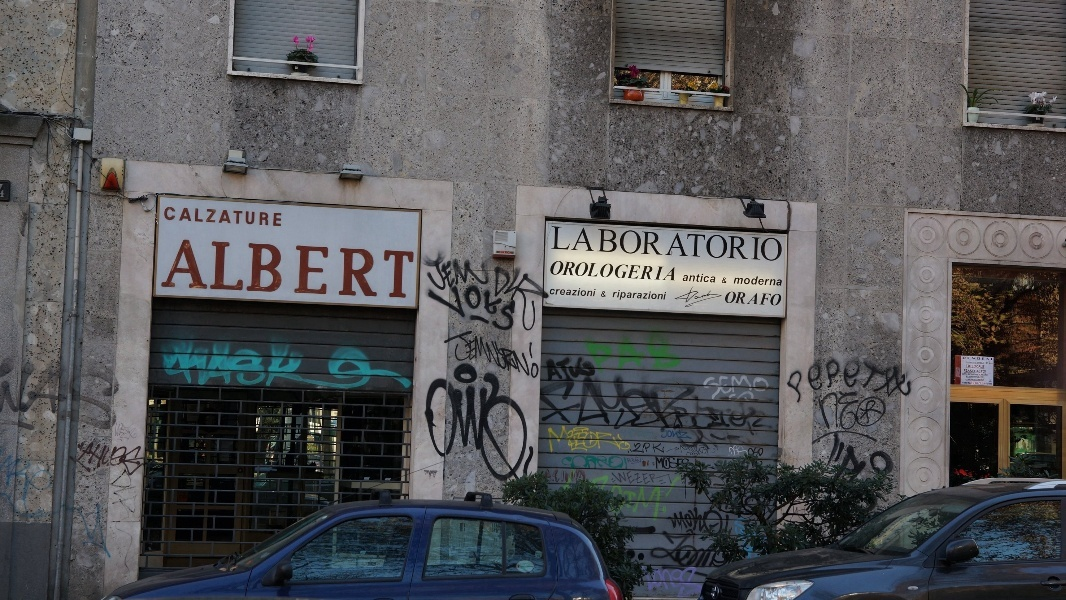text: (433, 340, 448, 488), (449, 340, 464, 488), (465, 340, 480, 488), (481, 340, 496, 488), (497, 340, 512, 488), (513, 340, 528, 488), (529, 340, 544, 488), (433, 251, 448, 332), (449, 251, 464, 332), (465, 251, 480, 332), (481, 251, 496, 332), (497, 251, 512, 332), (513, 251, 528, 332), (529, 251, 544, 332), (545, 251, 559, 332), (49, 360, 64, 433), (65, 360, 80, 433), (81, 360, 96, 433), (97, 360, 112, 433), (193, 239, 208, 299), (209, 239, 224, 299), (225, 239, 240, 299), (241, 239, 256, 299), (257, 239, 272, 299), (273, 239, 288, 299), (289, 239, 304, 299), (305, 239, 320, 299), (321, 239, 336, 299), (337, 239, 352, 299), (353, 239, 368, 299), (369, 239, 384, 299), (385, 239, 400, 299), (401, 239, 416, 299), (177, 333, 192, 390), (193, 333, 208, 390), (209, 333, 224, 390), (225, 333, 240, 390), (241, 333, 256, 390), (257, 333, 272, 390), (273, 333, 288, 390), (289, 333, 304, 390), (305, 333, 320, 390), (321, 333, 336, 390), (337, 333, 352, 390), (353, 333, 368, 390), (369, 333, 384, 390), (385, 333, 400, 390), (401, 333, 416, 390), (545, 376, 560, 431), (561, 376, 576, 431), (577, 376, 592, 431), (593, 376, 608, 431), (609, 376, 624, 431), (625, 376, 640, 431), (641, 376, 656, 431), (657, 376, 672, 431), (673, 376, 688, 431), (689, 376, 704, 431), (705, 376, 720, 431), (721, 376, 736, 431), (737, 376, 752, 431), (162, 333, 176, 390), (449, 328, 464, 381), (465, 328, 480, 381), (481, 328, 496, 381), (497, 328, 512, 381), (513, 328, 528, 381), (433, 282, 448, 333), (449, 282, 464, 333), (465, 282, 480, 333), (481, 282, 496, 333), (497, 282, 512, 333), (423, 251, 432, 332), (785, 354, 800, 402), (801, 354, 816, 402), (817, 354, 832, 402), (833, 354, 848, 402), (849, 354, 864, 402), (865, 354, 880, 402), (881, 354, 896, 402), (897, 354, 911, 402), (673, 528, 688, 571), (689, 528, 704, 571), (705, 528, 720, 571), (436, 328, 448, 381), (721, 528, 735, 571), (593, 330, 608, 369), (609, 330, 624, 369), (625, 330, 640, 369), (641, 330, 656, 369), (657, 330, 672, 369), (113, 360, 121, 433), (817, 391, 832, 429), (833, 391, 848, 429), (849, 391, 864, 429), (865, 391, 880, 429), (97, 439, 112, 476), (113, 439, 128, 476), (129, 439, 144, 476), (183, 239, 192, 299), (561, 226, 576, 262), (577, 226, 592, 262), (593, 226, 608, 262), (609, 226, 624, 262), (625, 226, 640, 262), (641, 226, 656, 262), (657, 226, 672, 262), (673, 226, 688, 262), (689, 226, 704, 262), (705, 226, 720, 262), (721, 226, 736, 262), (737, 226, 752, 262), (753, 226, 768, 262), (529, 328, 539, 381), (673, 503, 688, 538), (689, 503, 704, 538), (705, 503, 720, 538), (769, 226, 783, 262), (545, 351, 560, 381), (561, 351, 576, 381), (577, 351, 592, 381), (753, 376, 761, 431), (561, 424, 576, 452), (577, 424, 592, 452), (593, 424, 608, 452), (609, 424, 624, 452), (85, 439, 96, 476), (546, 424, 560, 452), (705, 375, 720, 399), (721, 375, 736, 399), (737, 375, 752, 399), (753, 375, 768, 399), (664, 528, 672, 571), (881, 391, 890, 429), (625, 424, 637, 452), (689, 287, 704, 309), (705, 287, 720, 309), (551, 226, 560, 262), (674, 287, 688, 309), (426, 282, 432, 333), (177, 206, 192, 226), (193, 206, 208, 226), (209, 206, 224, 226), (225, 206, 240, 226), (241, 206, 256, 226), (257, 206, 272, 226), (561, 261, 576, 281), (577, 261, 592, 281), (593, 261, 608, 281), (609, 261, 624, 281), (625, 261, 640, 281), (641, 261, 656, 281), (657, 261, 672, 281), (430, 340, 432, 488), (545, 340, 547, 488), (721, 503, 729, 538), (513, 282, 518, 333), (164, 206, 176, 226), (737, 291, 752, 306), (753, 291, 768, 306), (540, 376, 544, 431), (625, 471, 640, 485), (641, 471, 656, 485), (577, 455, 592, 469), (593, 455, 608, 469), (641, 441, 656, 455), (666, 503, 672, 538), (737, 445, 752, 459), (610, 471, 624, 485), (562, 455, 576, 469), (609, 455, 623, 469), (769, 291, 782, 306), (673, 330, 678, 369), (977, 373, 993, 385), (625, 290, 640, 302), (641, 290, 656, 302), (753, 445, 765, 459), (962, 373, 976, 385), (689, 272, 704, 283), (689, 444, 704, 455), (273, 206, 281, 226), (588, 330, 592, 369), (737, 276, 752, 286), (753, 276, 768, 286), (593, 351, 598, 381), (705, 444, 718, 455), (553, 261, 560, 281), (727, 291, 736, 306), (561, 288, 576, 297), (577, 288, 592, 297), (673, 430, 688, 439), (769, 276, 782, 286), (705, 272, 716, 283), (614, 290, 624, 302), (657, 290, 667, 302), (813, 391, 816, 429), (657, 441, 665, 455), (145, 439, 148, 476), (678, 444, 688, 455), (662, 430, 672, 439), (634, 441, 640, 455), (730, 445, 736, 459), (723, 277, 736, 283), (627, 458, 640, 464), (47, 360, 48, 433), (552, 288, 560, 297), (701, 375, 704, 399), (977, 357, 993, 361), (978, 369, 992, 373), (963, 357, 976, 361), (769, 375, 771, 399), (684, 272, 688, 283), (721, 287, 723, 309), (673, 261, 675, 281), (593, 288, 597, 297), (602, 291, 608, 297), (689, 430, 693, 439), (964, 369, 976, 372), (967, 361, 976, 365), (977, 361, 985, 365), (543, 351, 544, 381), (966, 365, 976, 368), (977, 365, 985, 368), (641, 458, 643, 464), (735, 276, 736, 286)
